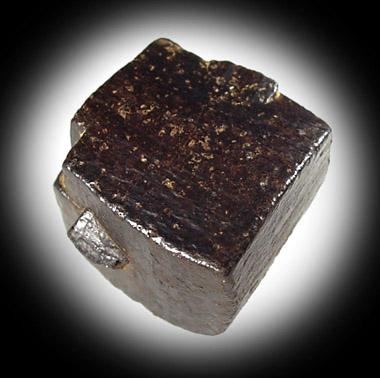limonite: (54, 38, 333, 336)
